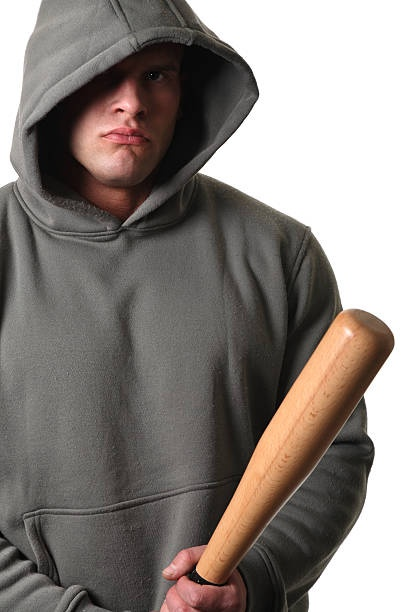bita: (155, 304, 393, 609)
